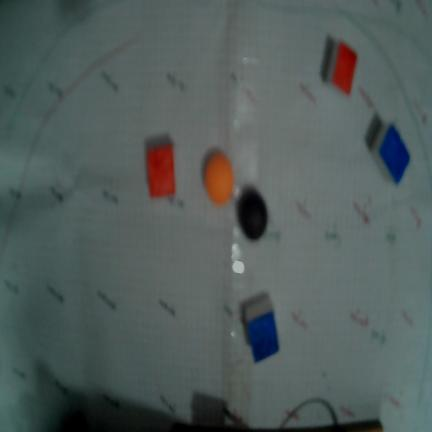circle_blue: (241, 196, 268, 240)
circle_orange: (204, 151, 234, 205)
rectangle_blue: (380, 124, 409, 185)
rectangle_orange: (332, 42, 357, 94)
square_blue: (247, 311, 279, 362)
square_orange: (148, 146, 174, 197)
